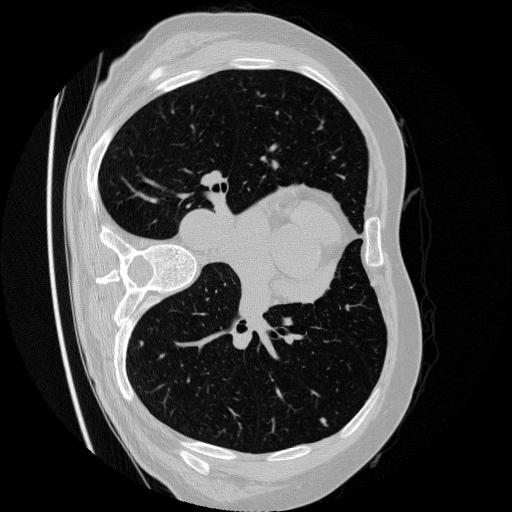nodule: (318, 416, 333, 431)
